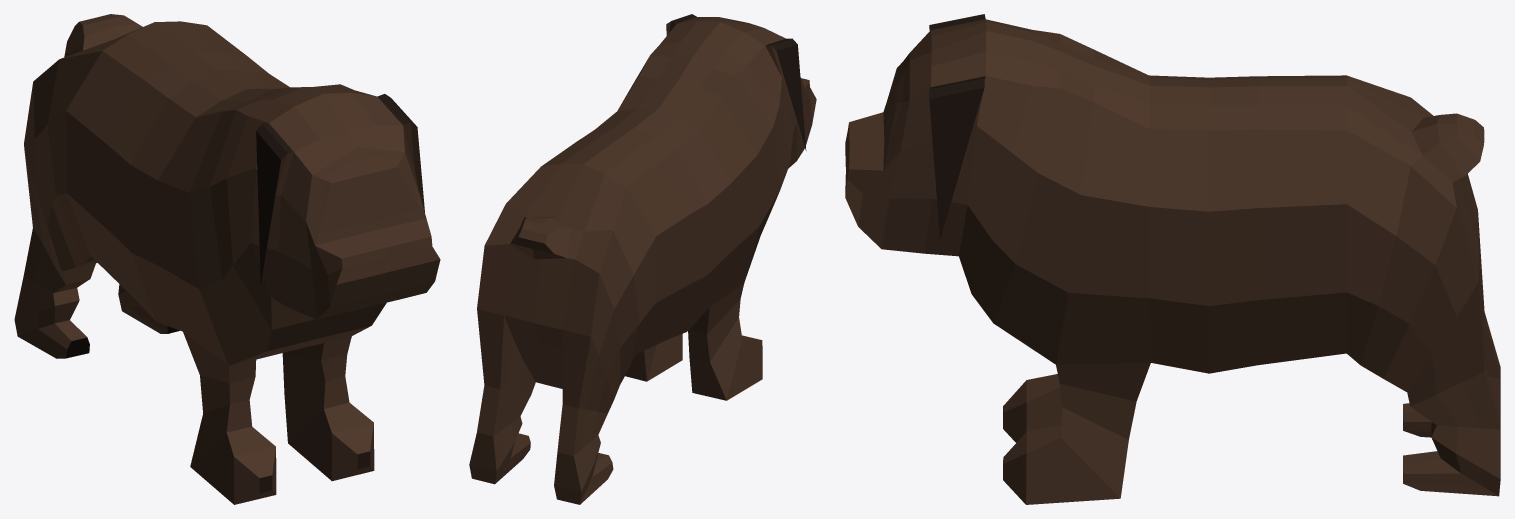
File: pug.fbx
3 renders of one model, left to right at view 1: azimuth 30°, elevation 25°; view 2: azimuth 150°, elevation 25°; view 3: azimuth 270°, elevation 25°, orthographic. The views are drawn at different scales.
Visible parts, largest first — view 1: Plane; view 2: Plane; view 3: Plane.
Part boxes in pixels (box(x1,y1,x2,y2)): Plane: box(14, 14, 440, 504); Plane: box(469, 14, 816, 504); Plane: box(845, 14, 1500, 504).
Size of the model in its own units: 52.97 by 116 by 157.
